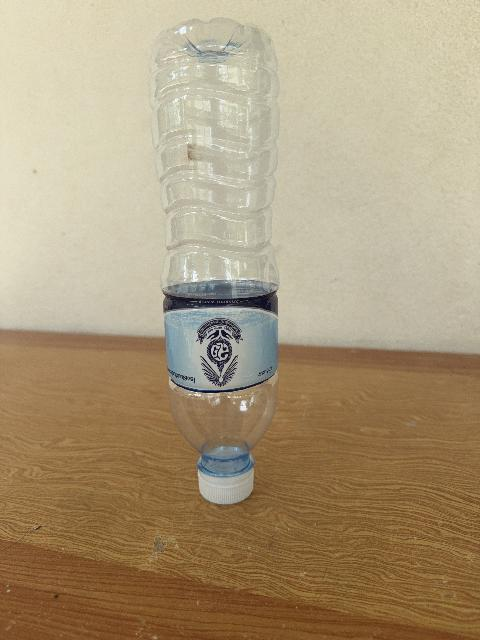bottle: (150, 19, 279, 503)
